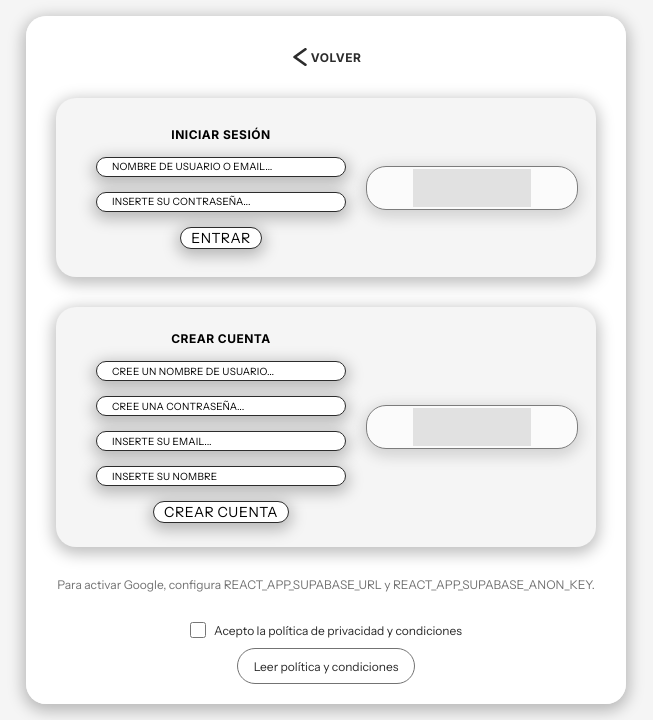
Test: impide iniciar sesión sin aceptar la política
The image size is (653, 720).
Type "ana" into the field with placeholder "NOMBRE DE USUARIO O EMAIL..." at (221, 166), box top-left (96, 156), bottom-right (346, 176)
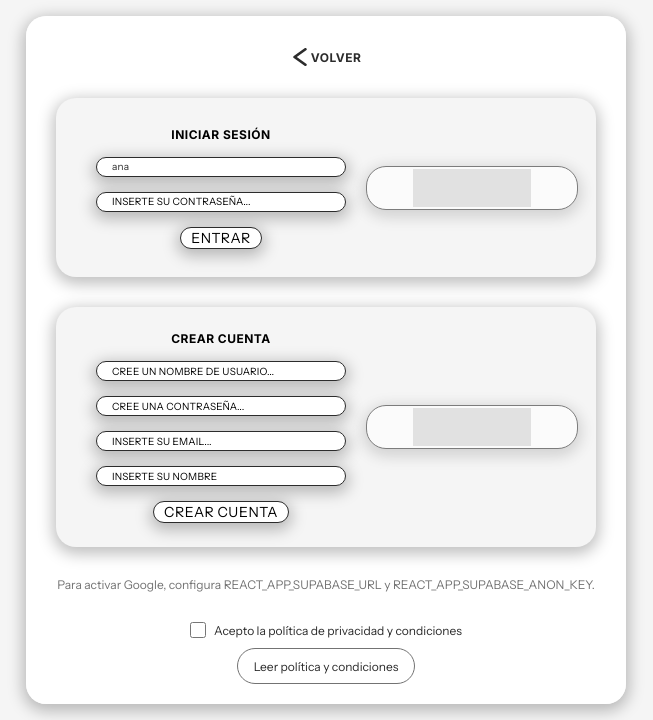
Type "password123" into the password field with placeholder "INSERTE SU CONTRASEÑA..." at (221, 202), box top-left (96, 192), bottom-right (346, 212)
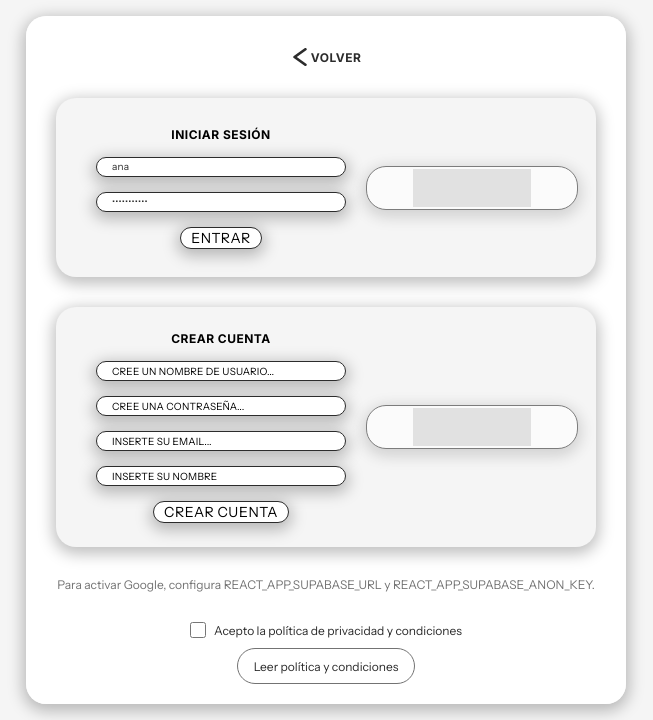
Click the button "ENTRAR" at (221, 238), box top-left (180, 226), bottom-right (262, 248)
(page scrolled)
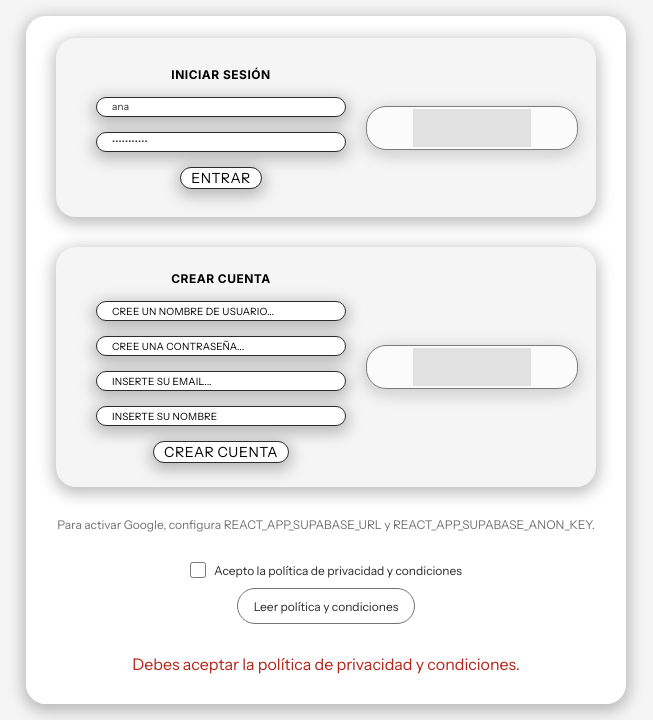
Expected: the message reads "Debes aceptar la política de privacidad y condiciones.", top-left (132, 654), bottom-right (520, 674)
